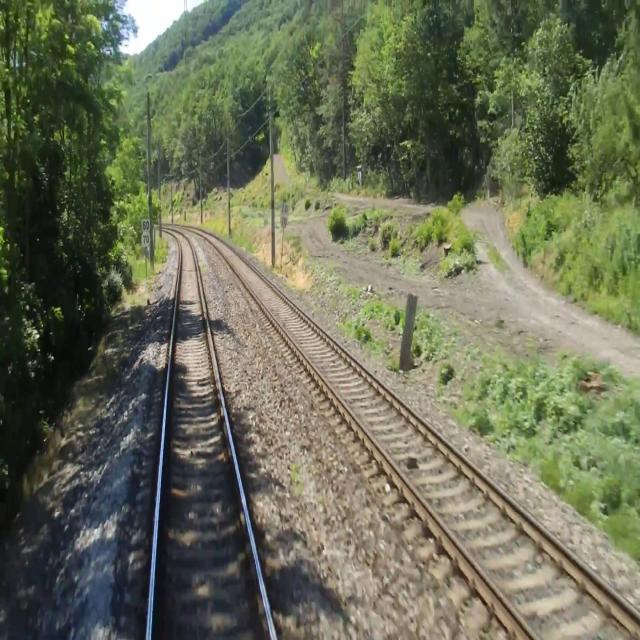rail-track: (162, 224, 622, 639), (150, 228, 272, 639)
